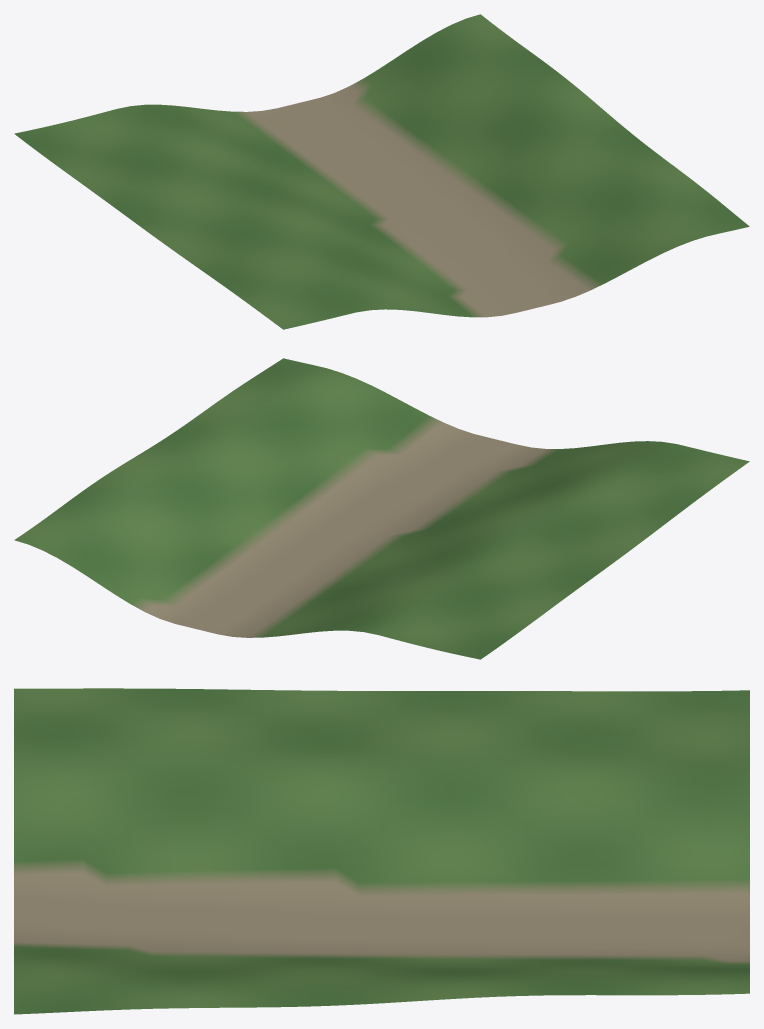
File: chunk_4_1.glb
The picture shows the model from 3 angles, top to bottom: view 1: azimuth 30°, elevation 25°; view 2: azimuth 150°, elevation 25°; view 3: azimuth 270°, elevation 25°; orthographic projection. The views are drawn at different scales.
Size of the model in its own units: 512 by 46.64 by 512.
